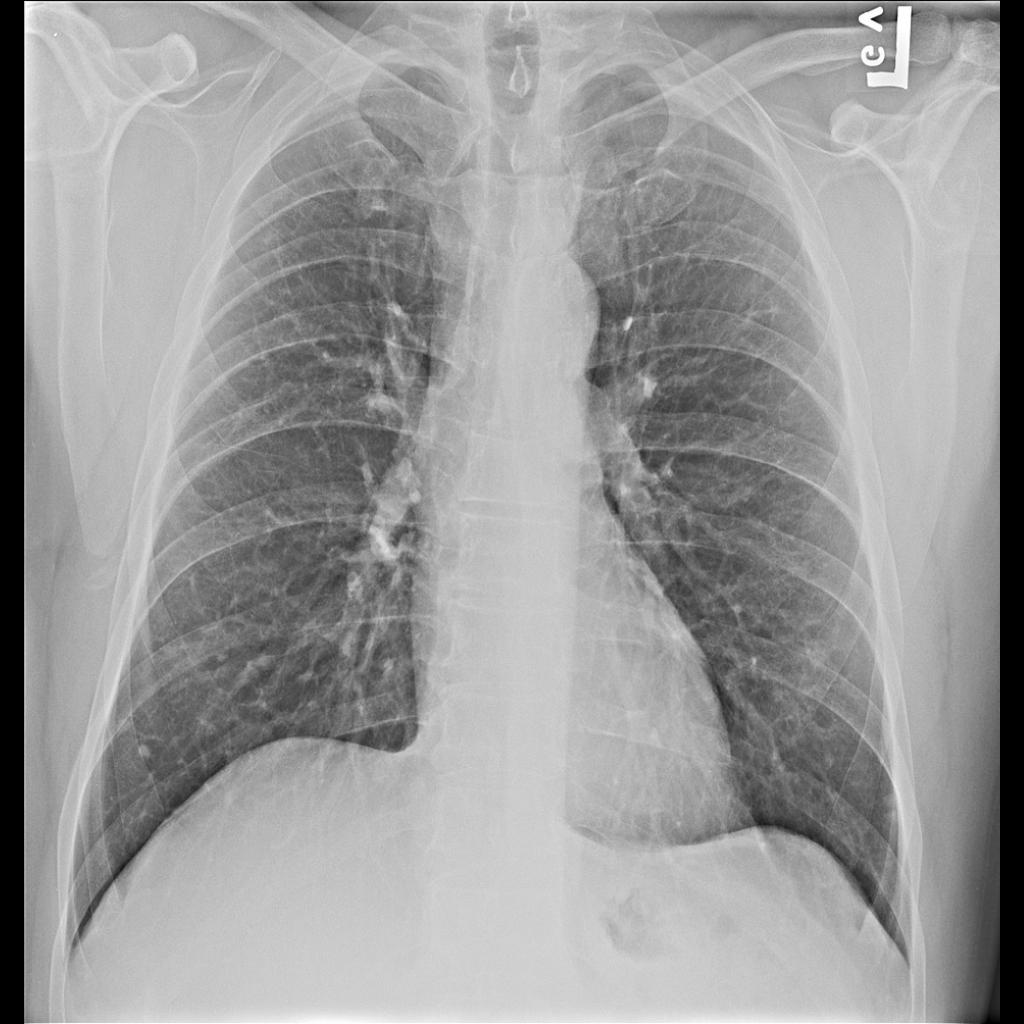Nodule: (799, 640, 835, 678)
